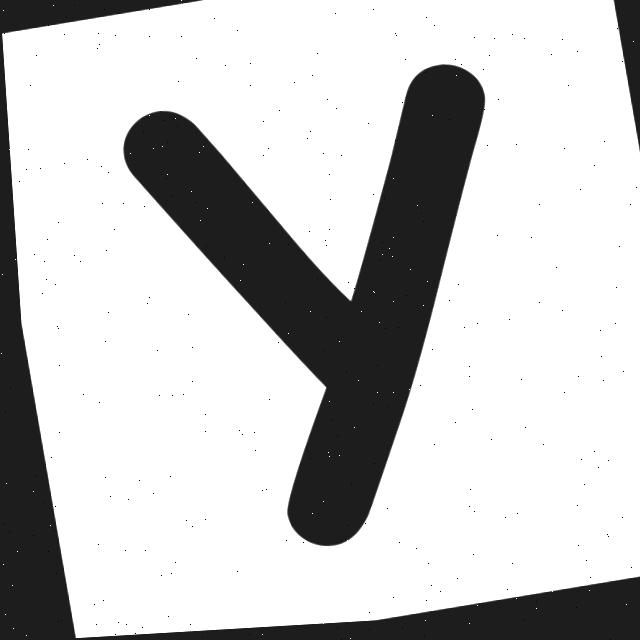Y: (121, 70, 483, 549)
